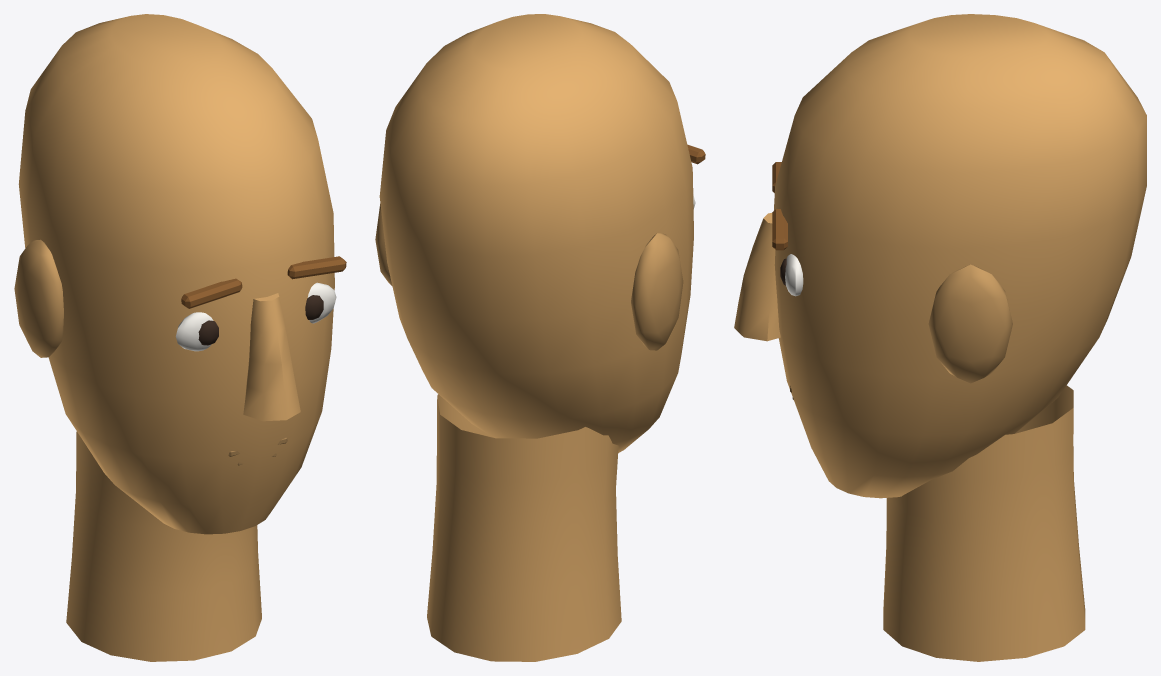
Rendered from npc_head_face.glb.
3 renders of one model, left to right at view 1: azimuth 30°, elevation 25°; view 2: azimuth 150°, elevation 25°; view 3: azimuth 270°, elevation 25°, orthographic.
Visible parts, largest first — view 1: npc_head_face; view 2: npc_head_face; view 3: npc_head_face.
Boxes of the visible parts, bbox=[...] form: npc_head_face: bbox=[14, 14, 346, 661]; npc_head_face: bbox=[375, 14, 705, 661]; npc_head_face: bbox=[734, 14, 1146, 661].
Size of the model in its own units: 0.1713 by 0.33 by 0.211.
